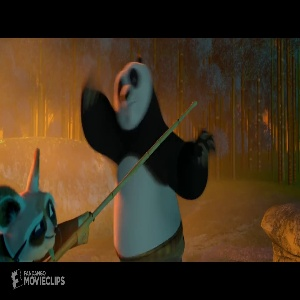po: (80, 52, 222, 263)
shifu: (2, 147, 95, 259)
